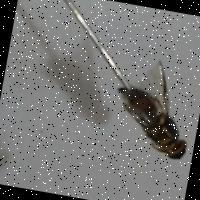Oriental-fruit-fly: (92, 46, 200, 177)
